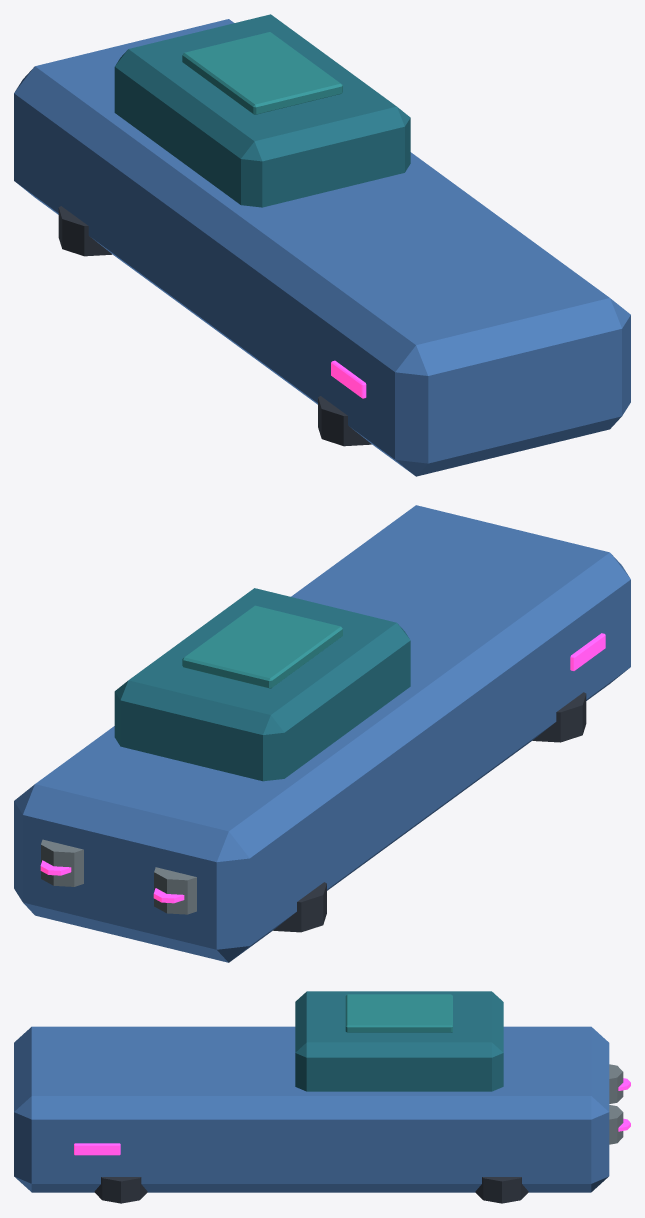
Rendered from vehicles_024_seed11.glb.
The picture shows the model from 3 angles, top to bottom: view 1: azimuth 30°, elevation 25°; view 2: azimuth 150°, elevation 25°; view 3: azimuth 270°, elevation 25°; orthographic projection. The views are drawn at different scales.
Visible parts, largest first — view 1: vehicles_024_seed11; view 2: vehicles_024_seed11; view 3: vehicles_024_seed11.
Boxes of the visible parts, x1,y1,x2,y2 form: vehicles_024_seed11: (14, 14, 630, 476); vehicles_024_seed11: (14, 505, 630, 962); vehicles_024_seed11: (14, 991, 630, 1203).
Size of the model in its own units: 1.99 by 1.49 by 5.55.
